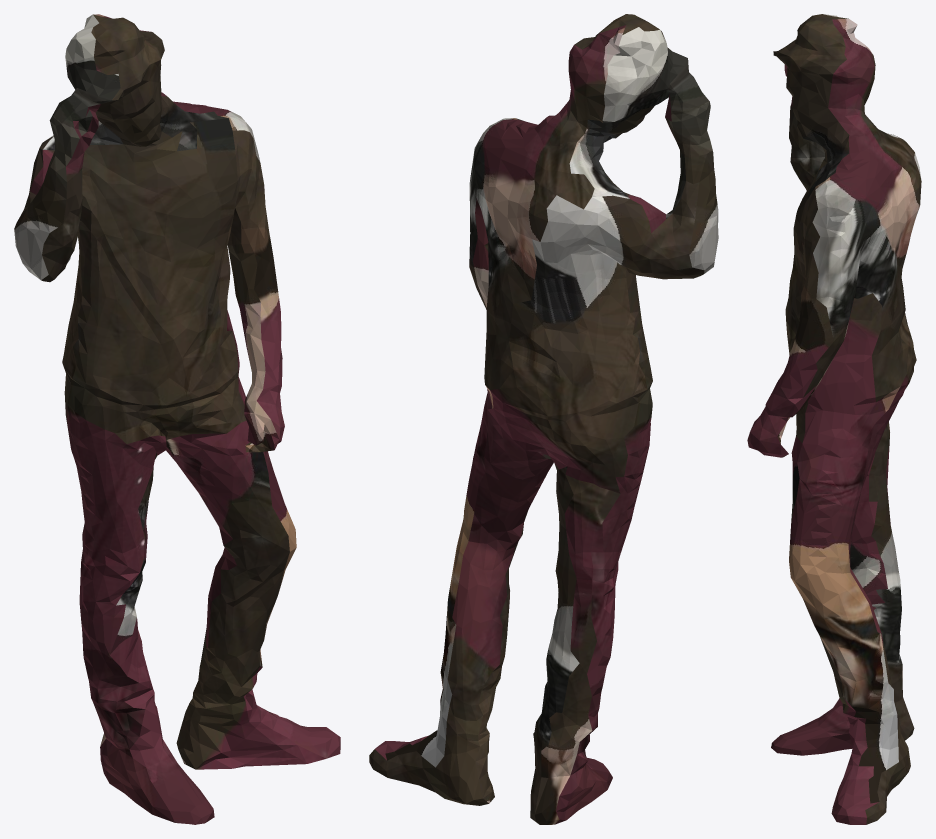
File: man_5.glb
3 renders of one model, left to right at view 1: azimuth 30°, elevation 25°; view 2: azimuth 150°, elevation 25°; view 3: azimuth 270°, elevation 25°, orthographic. The views are drawn at different scales.
Visible parts, largest first — view 1: man_5; view 2: man_5; view 3: man_5.
Boxes of the visible parts, x1=… form: man_5: x1=14, y1=14, x2=340, y2=824; man_5: x1=369, y1=14, x2=718, y2=824; man_5: x1=747, y1=14, x2=921, y2=824.
Size of the model in its own units: 0.7138 by 1.66 by 0.3745.
Materials: 1 (1 with a texture image).
